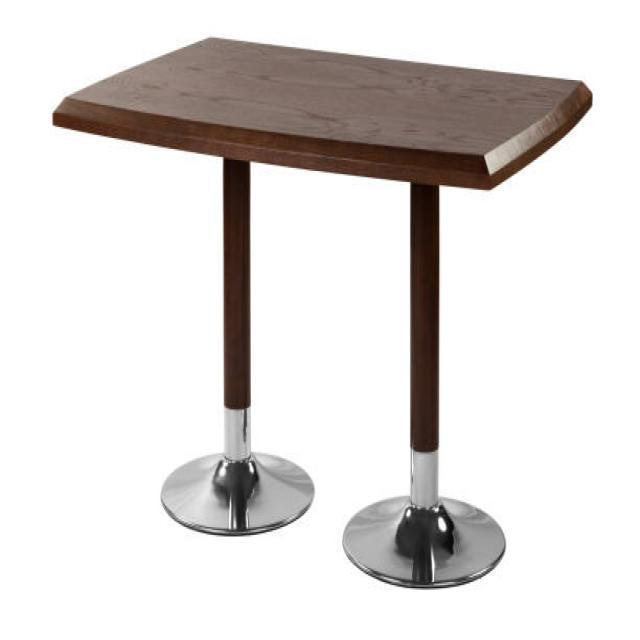table: (51, 32, 593, 588)
